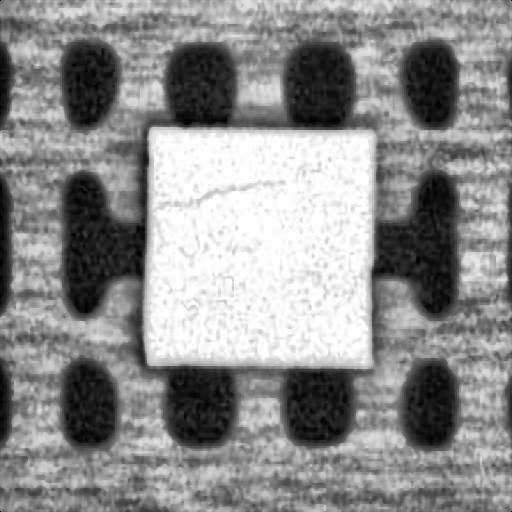DIE_CRACK: (158, 170, 285, 210)
